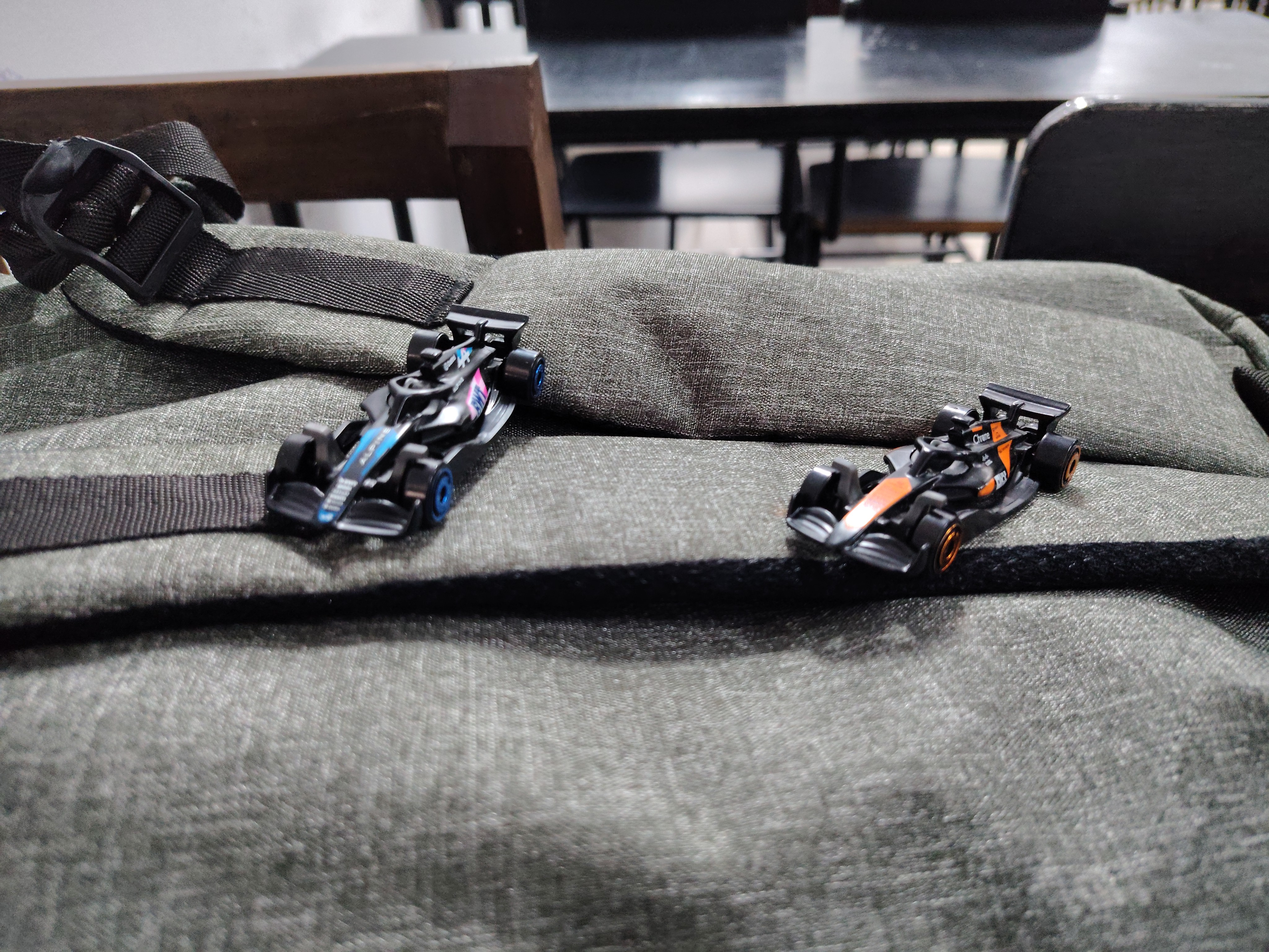Alpine A524: (234, 234, 624, 569)
McLaren MCL40: (799, 222, 1160, 595)
